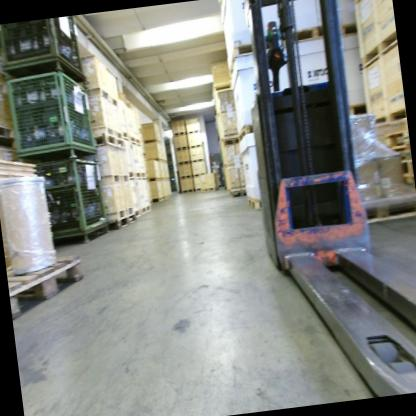pallet: (7, 250, 85, 321), (355, 189, 416, 226), (224, 39, 266, 80), (273, 21, 329, 48), (367, 121, 408, 152), (104, 209, 139, 234), (93, 131, 126, 153), (342, 100, 369, 126), (236, 122, 257, 145), (0, 131, 22, 150), (337, 17, 357, 37), (245, 195, 266, 214), (394, 142, 411, 160), (219, 135, 240, 148), (229, 186, 248, 199), (213, 82, 233, 94), (401, 156, 412, 172), (199, 185, 216, 193), (213, 170, 219, 176)
pallet_truck: (237, 0, 416, 407)
stillage: (3, 62, 101, 173), (38, 149, 112, 248), (0, 17, 87, 96)
